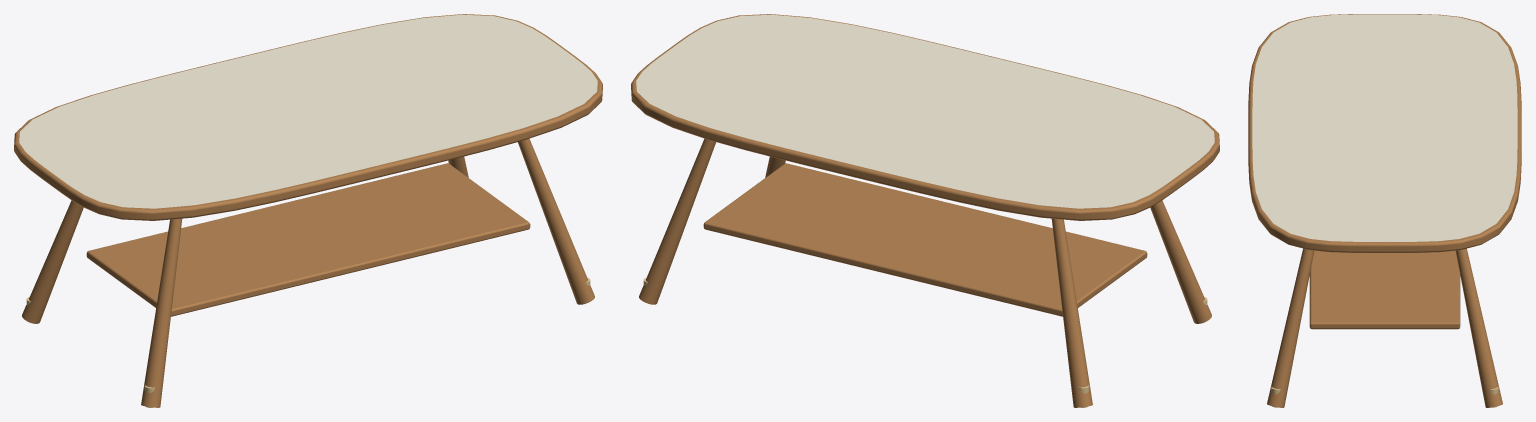
The model's file is coffee_table.glb.
3 views of the same model, side by side, from view 1: azimuth 30°, elevation 25°; view 2: azimuth 150°, elevation 25°; view 3: azimuth 270°, elevation 25° (orthographic). The views are drawn at different scales.
Visible parts, largest first — view 1: Formica, Shelf, Top, Leg, Leg.002, Leg.001; view 2: Formica, Shelf, Top, Leg.001, Leg.003, Leg; view 3: Formica, Shelf, Top, Leg.002, Leg.003.
Part boxes in pixels (box(x1,y1,x2,y2)): Formica: box(19, 14, 597, 208); Shelf: box(86, 163, 530, 316); Top: box(14, 14, 602, 220); Leg: box(141, 218, 182, 407); Leg.002: box(518, 138, 594, 304); Leg.001: box(22, 200, 83, 323); Formica: box(636, 14, 1214, 208); Shelf: box(703, 163, 1147, 316); Top: box(631, 14, 1219, 220); Leg.001: box(1051, 218, 1092, 407); Leg.003: box(639, 138, 715, 304); Leg: box(1150, 200, 1211, 323); Formica: box(1252, 14, 1517, 241); Shelf: box(1309, 250, 1460, 329); Top: box(1248, 14, 1521, 252); Leg.002: box(1267, 248, 1314, 407); Leg.003: box(1455, 248, 1502, 407).
Bounding box in the file's own units: 1.1 × 0.407 × 0.55.
